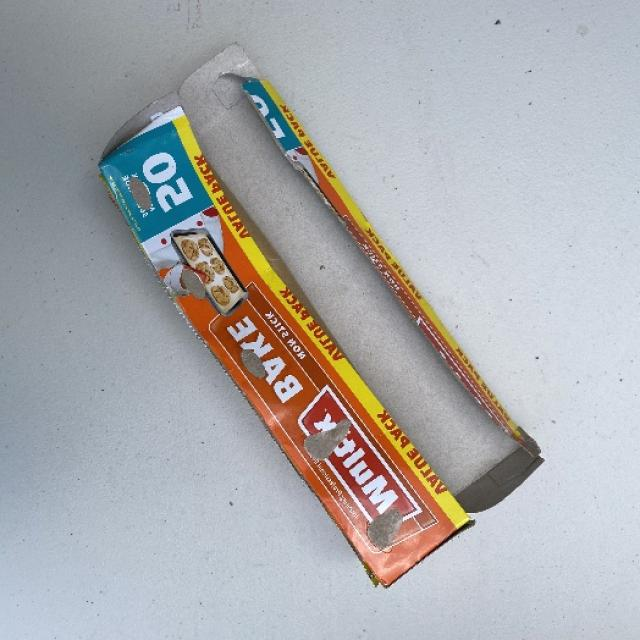kertas: (102, 46, 542, 582), (155, 56, 509, 592)
